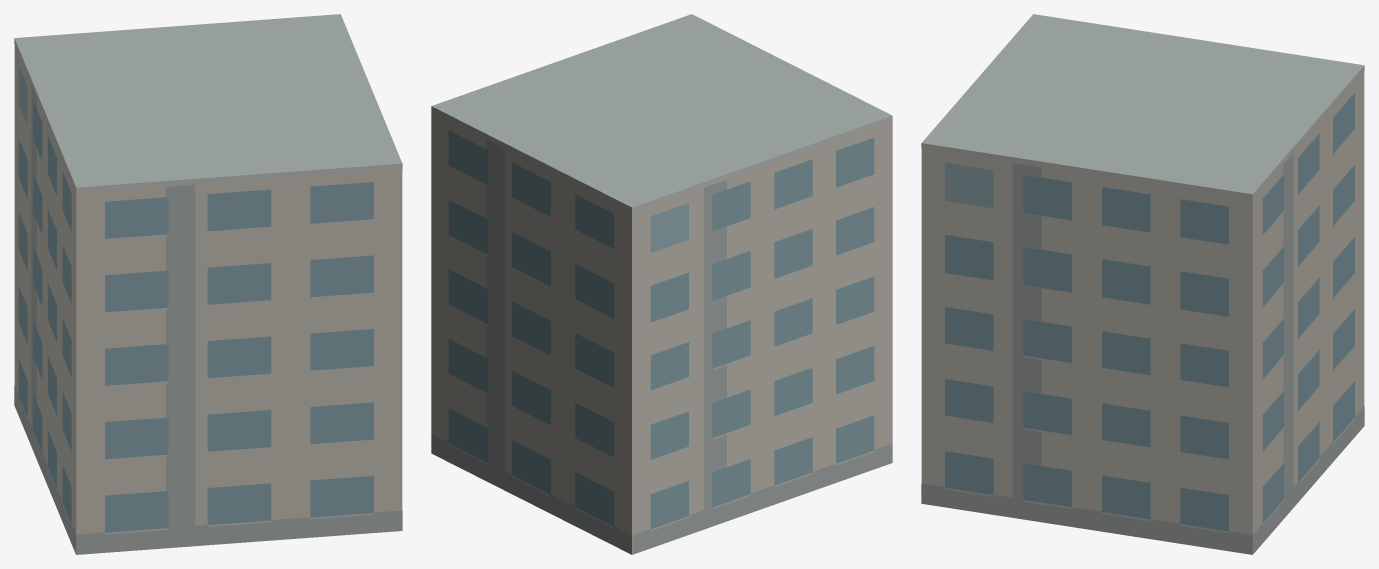
The model's file is residential-15b85d89-481a-4dbe-884c-3cd67063fa61.glb.
The picture shows the model from 3 angles, left to right: view 1: azimuth 30°, elevation 25°; view 2: azimuth 150°, elevation 25°; view 3: azimuth 270°, elevation 25°; orthographic projection. The views are drawn at different scales.
Visible parts, largest first — view 1: residential-15b85d89-481a-4dbe-884c-3cd67063fa61.tmp; view 2: residential-15b85d89-481a-4dbe-884c-3cd67063fa61.tmp; view 3: residential-15b85d89-481a-4dbe-884c-3cd67063fa61.tmp.
Boxes of the visible parts, <box> form: residential-15b85d89-481a-4dbe-884c-3cd67063fa61.tmp: <box>14,14,402,554</box>; residential-15b85d89-481a-4dbe-884c-3cd67063fa61.tmp: <box>431,14,892,554</box>; residential-15b85d89-481a-4dbe-884c-3cd67063fa61.tmp: <box>921,14,1364,554</box>.
Size of the model in its own units: 16.36 by 15.25 by 16.99.
